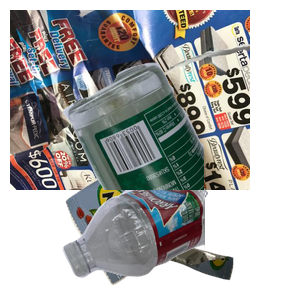glass: (60, 60, 300, 240)
paper: (10, 10, 250, 190)
plastic: (60, 190, 300, 280)
trash: (63, 137, 289, 300)
